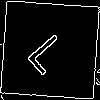L: (25, 25, 78, 77)
